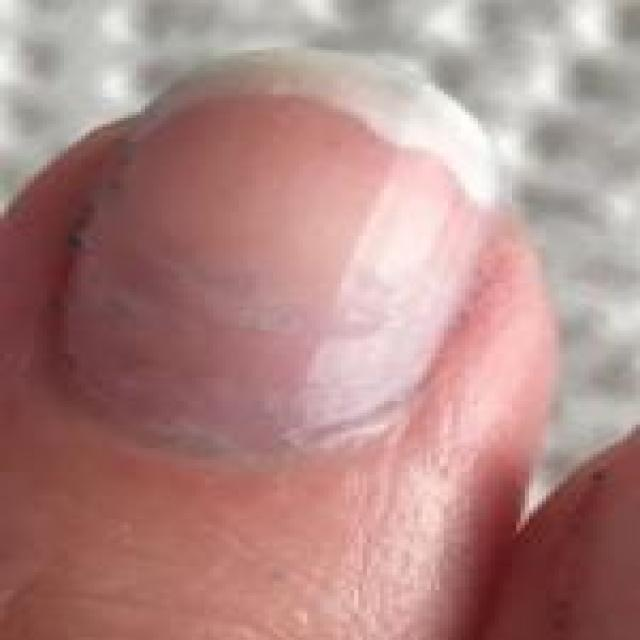Nail: (59, 49, 504, 450)
